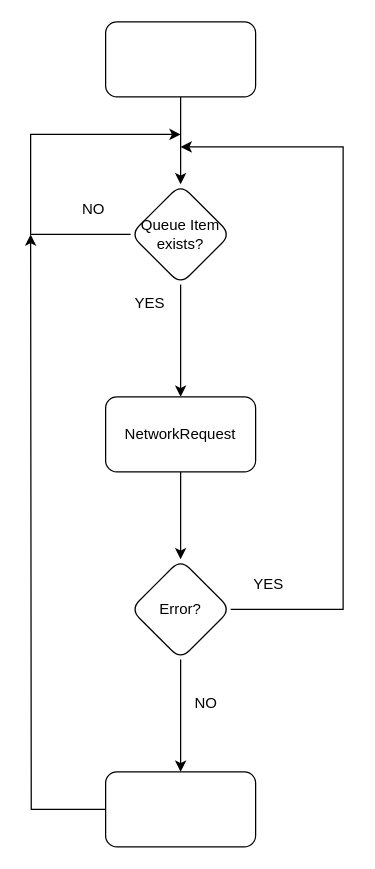
This 375x869 diagram has some shape labels left out. Each missing label, with the centre of its shape:
"Push Queue" belongs at pixel 180 59.
"Set isSynced to true and drop from Queue" belongs at pixel 180 809.
